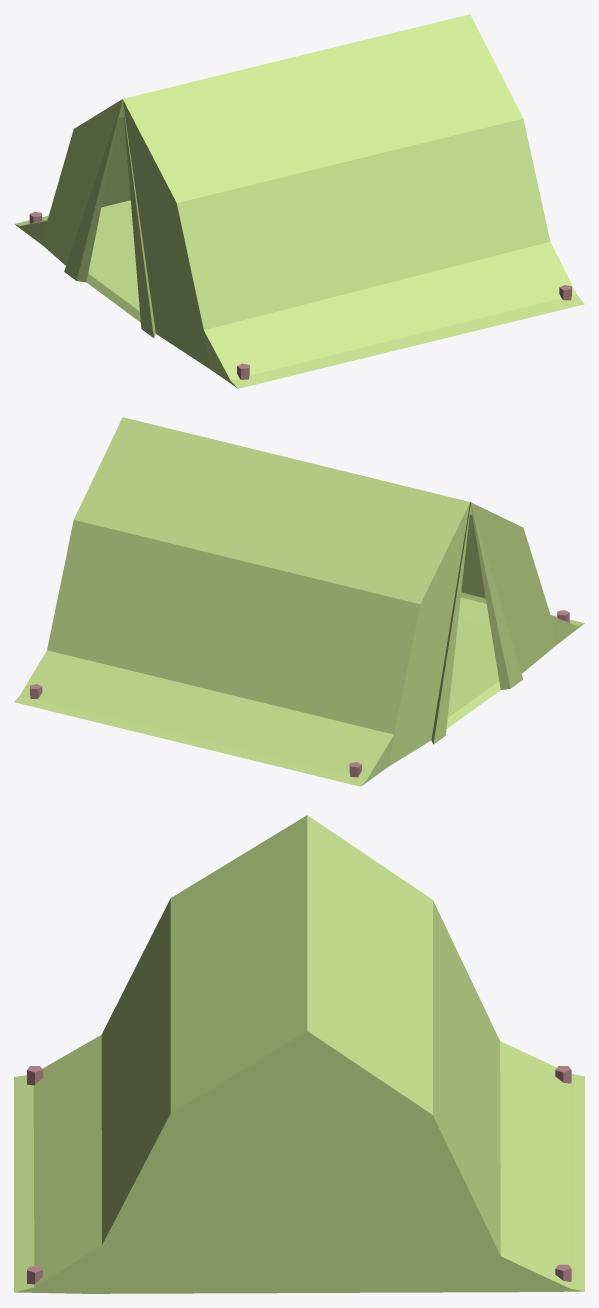
Rendered from tent.fbx.
3 renders of one model, top to bottom at view 1: azimuth 30°, elevation 25°; view 2: azimuth 150°, elevation 25°; view 3: azimuth 270°, elevation 25°, orthographic. The views are drawn at different scales.
Visible parts, largest first — view 1: pPrism1; view 2: pPrism1; view 3: pPrism1.
Part boxes in pixels (x1,y1,x2,y2): pPrism1: (14, 14, 584, 388); pPrism1: (14, 417, 584, 786); pPrism1: (14, 815, 584, 1293).
Bounding box in the file's own units: 8.98 × 4.95 × 9.73.
